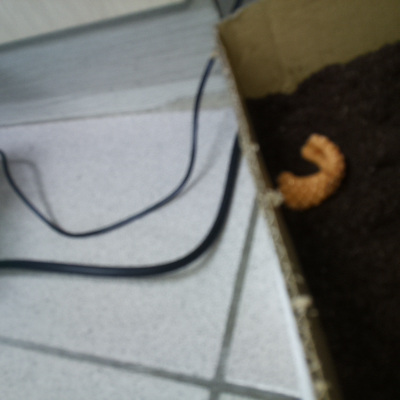eggs: (266, 129, 347, 212)
